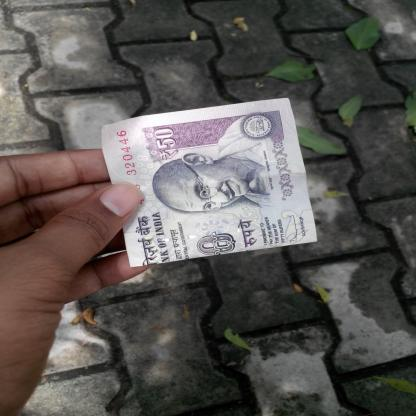Old50Front: (101, 98, 317, 268)
